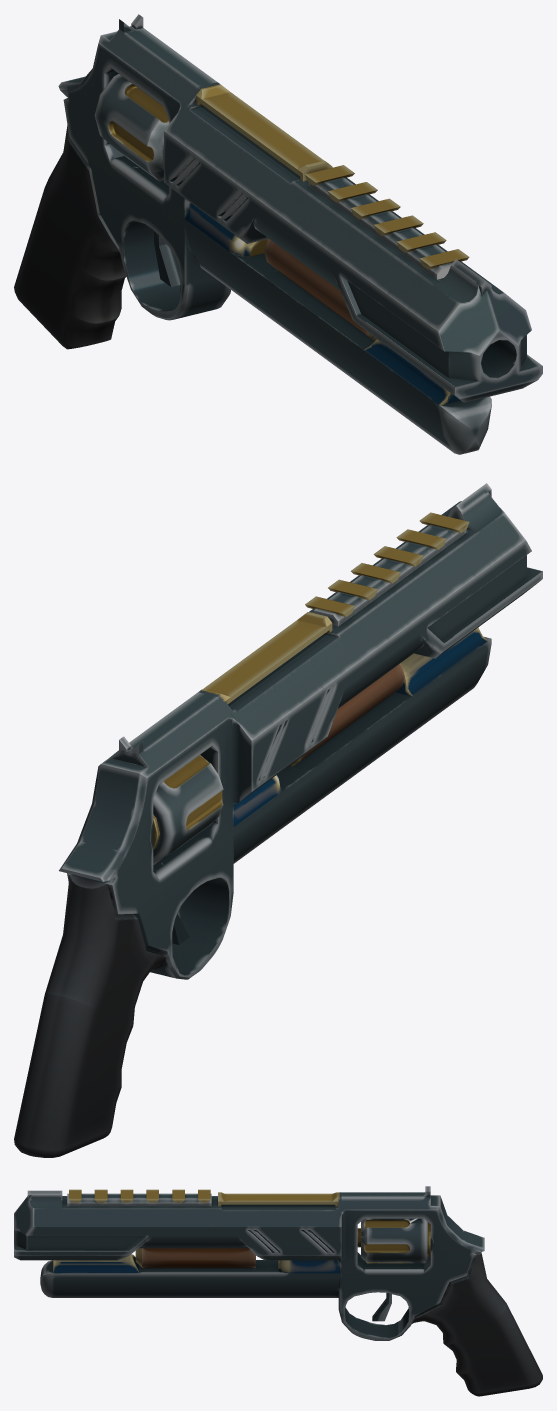
The picture shows the model from 3 angles, top to bottom: view 1: azimuth 30°, elevation 25°; view 2: azimuth 150°, elevation 25°; view 3: azimuth 270°, elevation 25°; orthographic projection. The views are drawn at different scales.
Parts seen in each view (by area): view 1: Taser_v5:_Component1:1:_Body1, Taser_v5:_Component2:1:_Body1, Taser_v5:_Body3, Taser_v5:_Component1:1:_Body2, Taser_v5:_Body5, Taser_v5:_Body27, Taser_v5:_Body13, Taser_v5:_Body14, Taser_v5:_Body24, Taser_v5:_Body4, Taser_v5:_Body22, Cube (+6 smaller); view 2: Taser_v5:_Component1:1:_Body1, Taser_v5:_Body3, Taser_v5:_Component1:1:_Body2, Taser_v5:_Component2:1:_Body1, Taser_v5:_Body5, Taser_v5:_Body27, Taser_v5:_Body13, Taser_v5:_Body14, Taser_v5:_Body4, Taser_v5:_Body24, Taser_v5:_Body22; view 3: Taser_v5:_Component1:1:_Body1, Taser_v5:_Component2:1:_Body1, Taser_v5:_Body3, Taser_v5:_Component1:1:_Body2, Taser_v5:_Body5, Taser_v5:_Body27, Taser_v5:_Body24, Taser_v5:_Body13, Taser_v5:_Body14, Taser_v5:_Body4, Taser_v5:_Body22, Taser_v5:_Body23 (+1 smaller).
Part boxes in pixels (x1,y1,x2,y2): Taser_v5:_Component1:1:_Body1: [164, 82, 542, 402]; Taser_v5:_Component2:1:_Body1: [184, 219, 491, 454]; Taser_v5:_Body3: [14, 125, 126, 349]; Taser_v5:_Component1:1:_Body2: [58, 26, 216, 227]; Taser_v5:_Body5: [99, 167, 230, 320]; Taser_v5:_Body27: [94, 74, 169, 181]; Taser_v5:_Body13: [196, 84, 332, 181]; Taser_v5:_Body14: [308, 177, 452, 279]; Taser_v5:_Body24: [264, 239, 376, 340]; Taser_v5:_Body4: [63, 98, 119, 246]; Taser_v5:_Body22: [185, 204, 268, 256]; Cube: [154, 231, 180, 286]; Taser_v5:_Component1:1:_Body1: [198, 483, 542, 837]; Taser_v5:_Body3: [14, 875, 165, 1157]; Taser_v5:_Component1:1:_Body2: [59, 692, 239, 899]; Taser_v5:_Component2:1:_Body1: [232, 629, 491, 863]; Taser_v5:_Body5: [147, 837, 233, 979]; Taser_v5:_Body27: [153, 755, 223, 864]; Taser_v5:_Body13: [201, 612, 332, 704]; Taser_v5:_Body14: [311, 525, 466, 626]; Taser_v5:_Body4: [67, 873, 168, 955]; Taser_v5:_Body24: [289, 663, 404, 766]; Taser_v5:_Body22: [233, 775, 280, 826]; Taser_v5:_Component1:1:_Body1: [14, 1190, 341, 1279]; Taser_v5:_Component2:1:_Body1: [40, 1254, 341, 1297]; Taser_v5:_Body3: [412, 1252, 542, 1396]; Taser_v5:_Component1:1:_Body2: [341, 1192, 484, 1279]; Taser_v5:_Body5: [338, 1279, 436, 1340]; Taser_v5:_Body27: [357, 1218, 427, 1263]; Taser_v5:_Body24: [135, 1248, 255, 1267]; Taser_v5:_Body13: [218, 1192, 339, 1206]; Taser_v5:_Body14: [67, 1193, 211, 1206]; Taser_v5:_Body4: [413, 1252, 476, 1317]; Taser_v5:_Body22: [278, 1260, 339, 1273]; Taser_v5:_Body23: [53, 1254, 138, 1270].
Bounding box in the file's own units: 1.8 × 7.05 × 16.68.
Materials: 2 (2 with a texture image).
